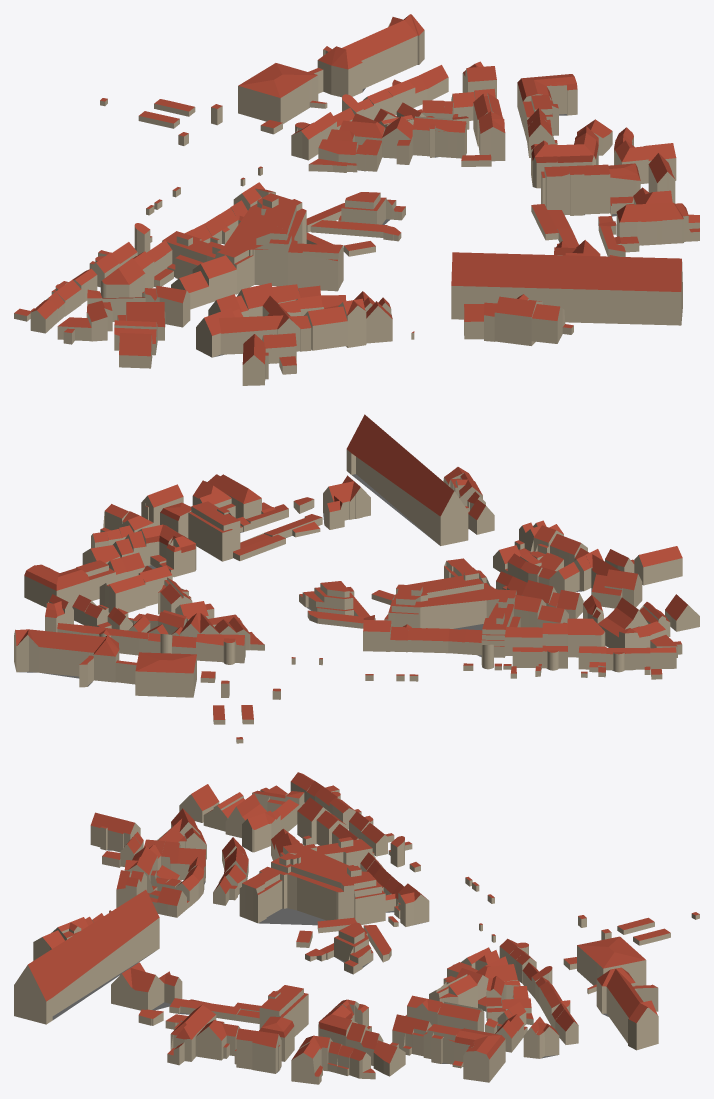
The model's file is ingolstadt_150_lod2_buildings.obj.
The picture shows the model from 3 angles, top to bottom: view 1: azimuth 30°, elevation 25°; view 2: azimuth 150°, elevation 25°; view 3: azimuth 270°, elevation 25°; orthographic projection. The views are drawn at different scales.
Parts seen in each view (by area): view 1: bldg_DEBY_L2_4392457, bldg_DEBY_L2_4392429, bldg_DEBY_L2_4392664, bldg_DEBY_L2_4392673, bldg_DEBY_L2_4392422, bldg_DEBY_L2_4392490, bldg_DEBY_L2_4392859, bldg_DEBY_L2_4392874, bldg_DEBY_L2_4392491, bldg_DEBY_L2_4392452, bldg_DEBY_L2_107777145, bldg_DEBY_L2_4392372 (+38 smaller); view 2: bldg_DEBY_L2_4392457, bldg_DEBY_L2_4392429, bldg_DEBY_L2_4392664, bldg_DEBY_L2_4392673, bldg_DEBY_L2_4392490, bldg_DEBY_L2_4392422, bldg_DEBY_L2_4392528, bldg_DEBY_L2_4392460, bldg_DEBY_L2_4392495, bldg_DEBY_L2_4392492, bldg_DEBY_L2_4392374, bldg_DEBY_L2_107777145 (+40 smaller); view 3: bldg_DEBY_L2_4392429, bldg_DEBY_L2_4392457, bldg_DEBY_L2_4392664, bldg_DEBY_L2_4392460, bldg_DEBY_L2_4392673, bldg_DEBY_L2_4392528, bldg_DEBY_L2_104843101, bldg_DEBY_L2_4392495, bldg_DEBY_L2_4392490, bldg_DEBY_L2_4392859, bldg_DEBY_L2_107777145, bldg_DEBY_L2_4392374 (+35 smaller).
Part boxes in pixels (<box>): bldg_DEBY_L2_4392457: <box>451,252,682,325</box>; bldg_DEBY_L2_4392429: <box>162,193,343,294</box>; bldg_DEBY_L2_4392664: <box>317,14,424,97</box>; bldg_DEBY_L2_4392673: <box>238,63,318,123</box>; bldg_DEBY_L2_4392422: <box>196,308,311,357</box>; bldg_DEBY_L2_4392490: <box>541,164,610,215</box>; bldg_DEBY_L2_4392859: <box>616,202,699,245</box>; bldg_DEBY_L2_4392874: <box>318,113,385,171</box>; bldg_DEBY_L2_4392491: <box>412,116,466,158</box>; bldg_DEBY_L2_4392452: <box>494,294,542,345</box>; bldg_DEBY_L2_107777145: <box>338,192,405,224</box>; bldg_DEBY_L2_4392372: <box>304,306,347,350</box>; bldg_DEBY_L2_4392457: <box>346,414,468,545</box>; bldg_DEBY_L2_4392429: <box>388,558,516,657</box>; bldg_DEBY_L2_4392664: <box>14,629,119,682</box>; bldg_DEBY_L2_4392673: <box>135,652,196,697</box>; bldg_DEBY_L2_4392490: <box>188,501,240,561</box>; bldg_DEBY_L2_4392422: <box>574,548,642,608</box>; bldg_DEBY_L2_4392528: <box>24,564,89,607</box>; bldg_DEBY_L2_4392460: <box>323,475,370,529</box>; bldg_DEBY_L2_4392495: <box>113,524,179,568</box>; bldg_DEBY_L2_4392492: <box>99,573,145,612</box>; bldg_DEBY_L2_4392374: <box>634,546,682,585</box>; bldg_DEBY_L2_107777145: <box>299,581,353,615</box>; bldg_DEBY_L2_4392429: <box>239,837,385,925</box>; bldg_DEBY_L2_4392457: <box>14,890,159,1024</box>; bldg_DEBY_L2_4392664: <box>596,967,658,1050</box>; bldg_DEBY_L2_4392460: <box>111,962,182,1010</box>; bldg_DEBY_L2_4392673: <box>577,936,646,985</box>; bldg_DEBY_L2_4392528: <box>454,1028,505,1082</box>; bldg_DEBY_L2_104843101: <box>236,1028,281,1073</box>; bldg_DEBY_L2_4392495: <box>318,1004,383,1065</box>; bldg_DEBY_L2_4392490: <box>259,985,308,1036</box>; bldg_DEBY_L2_4392859: <box>167,1005,216,1065</box>; bldg_DEBY_L2_107777145: <box>334,922,373,974</box>; bldg_DEBY_L2_4392374: <box>90,812,140,852</box>.
Bounding box in the file's own units: 305 × 28.51 × 302.
